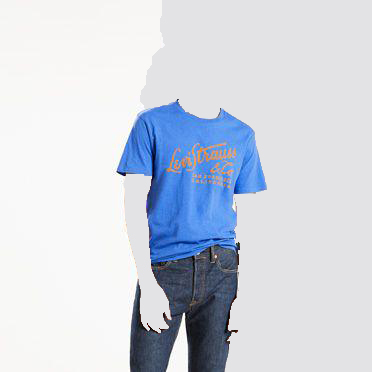teeshirt: (114, 100, 268, 256)
